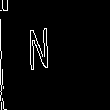N_S: (43, 28, 67, 82)
